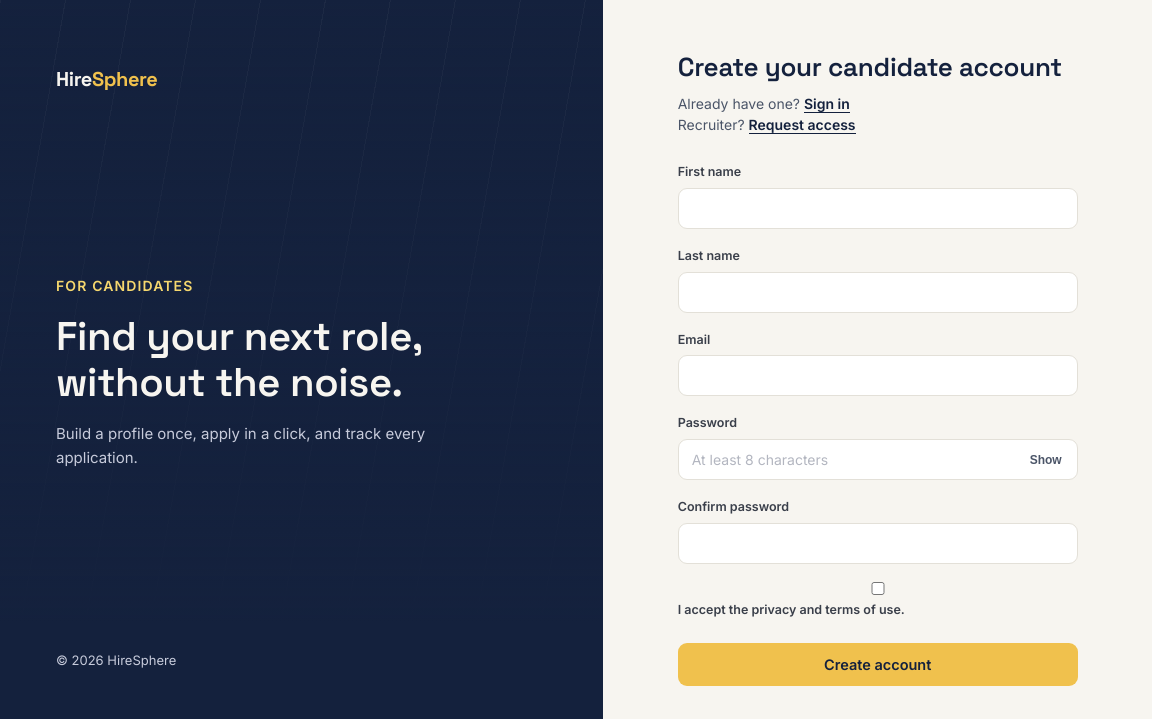
Candidate registration validation › shows validation errors for incomplete registration
Check: the heading "Create your candidate account" is shown, box x1=678 y1=48 x2=1078 y2=87
Click the button "Create account".
click(878, 665)  # box x1=678 y1=643 x2=1078 y2=686
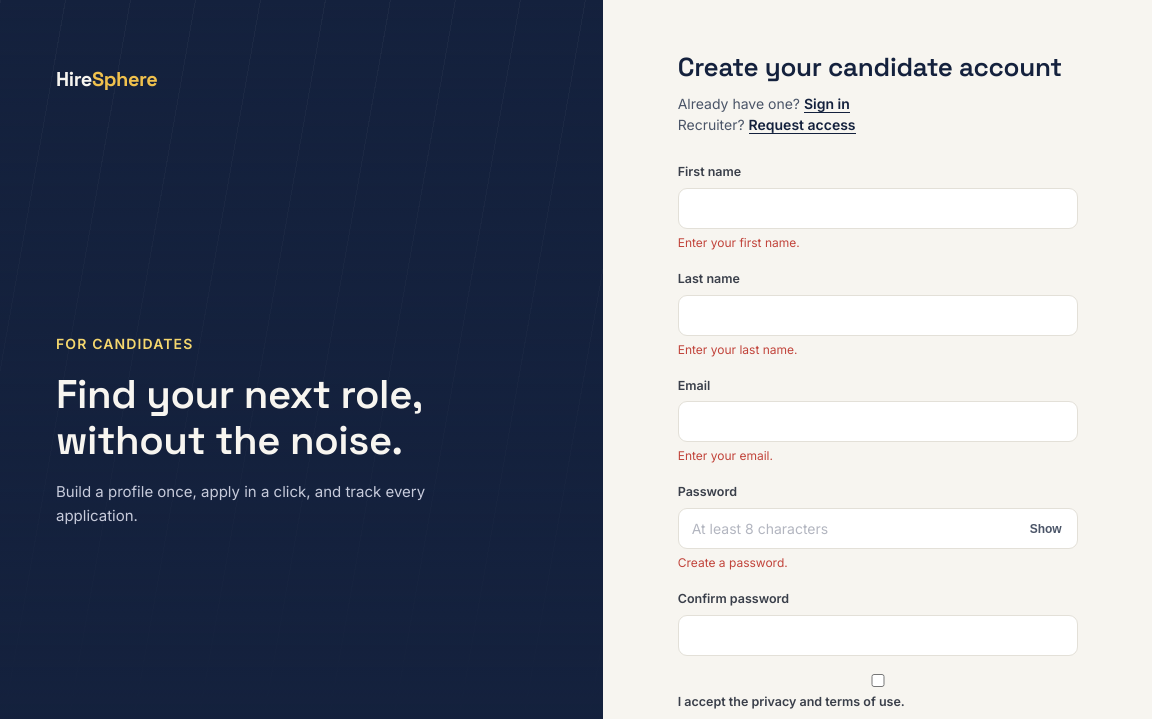
Check: the text "Enter your first name." is shown, box x1=678 y1=235 x2=800 y2=250
Check: the text "Enter your last name." is shown, box x1=678 y1=342 x2=798 y2=356
Check: the text "Enter your email." is shown, box x1=678 y1=448 x2=773 y2=463
